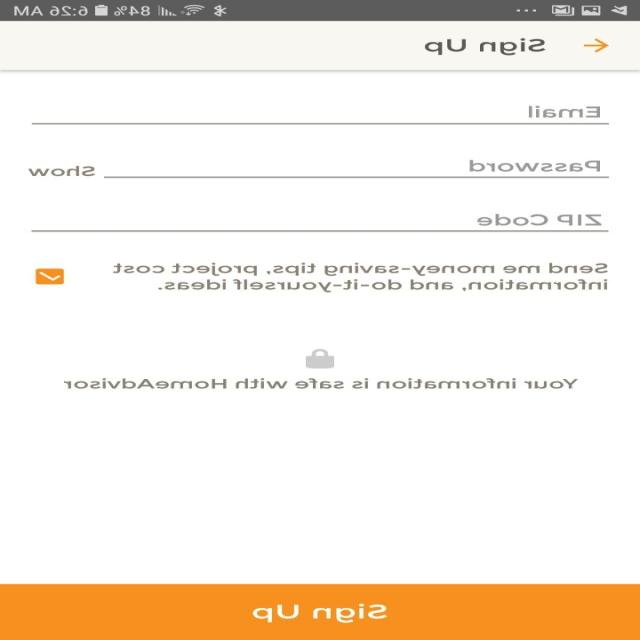EditText: (31, 105, 610, 124), (31, 213, 610, 232), (104, 160, 610, 178)
Icon: (306, 349, 336, 368), (583, 39, 610, 53)
Text: (112, 262, 609, 292), (64, 378, 578, 389), (425, 38, 547, 56), (469, 159, 601, 172), (477, 213, 603, 226), (528, 105, 600, 118), (28, 166, 96, 176)
TextButton: (1, 584, 640, 640)
